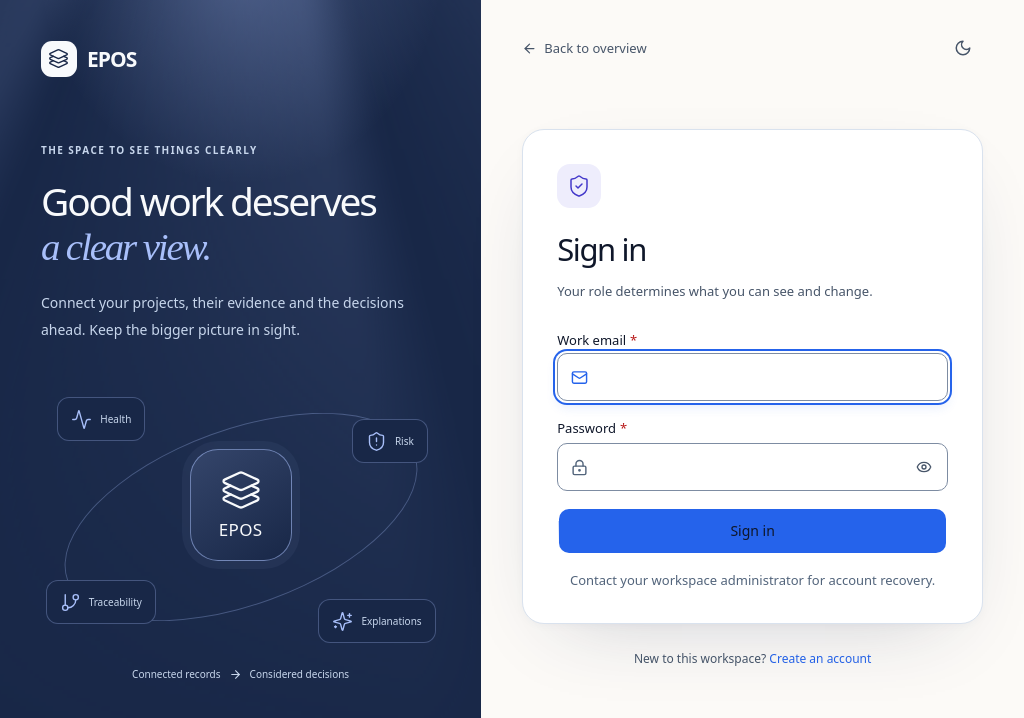
it: LoginPage › explains a 403 refusal instead of blaming the password
Type "someone@epos.example.com" into the field labelled "Work email" at (753, 377), box [557, 353, 948, 401]
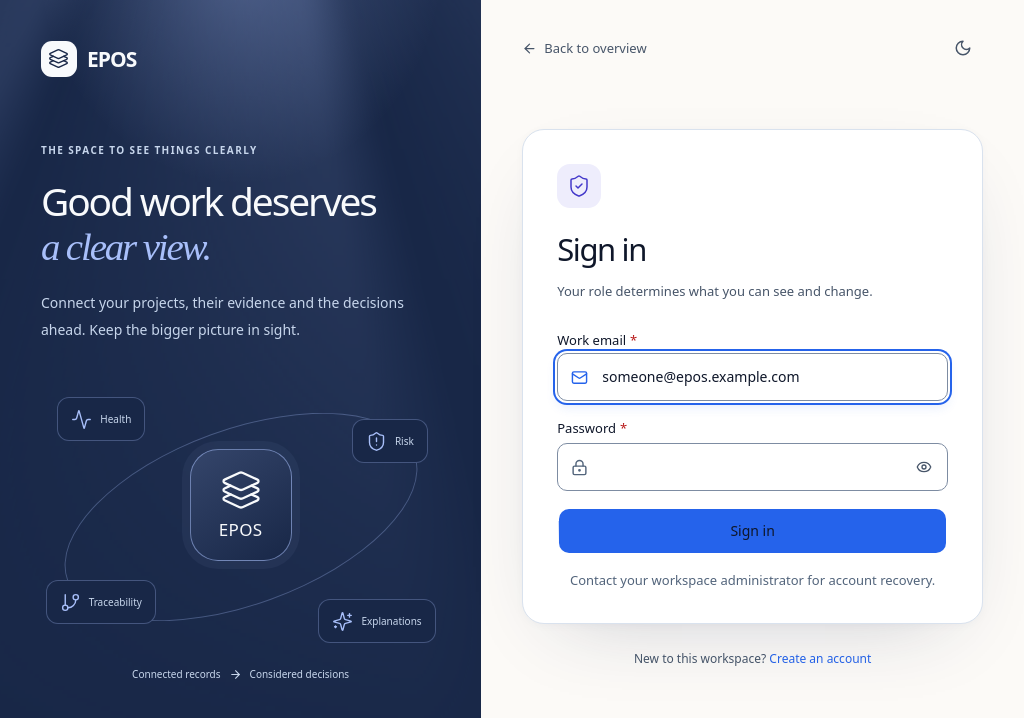
Type "a-password-123" into the password field labelled "Password" at (753, 467), box [557, 443, 948, 491]
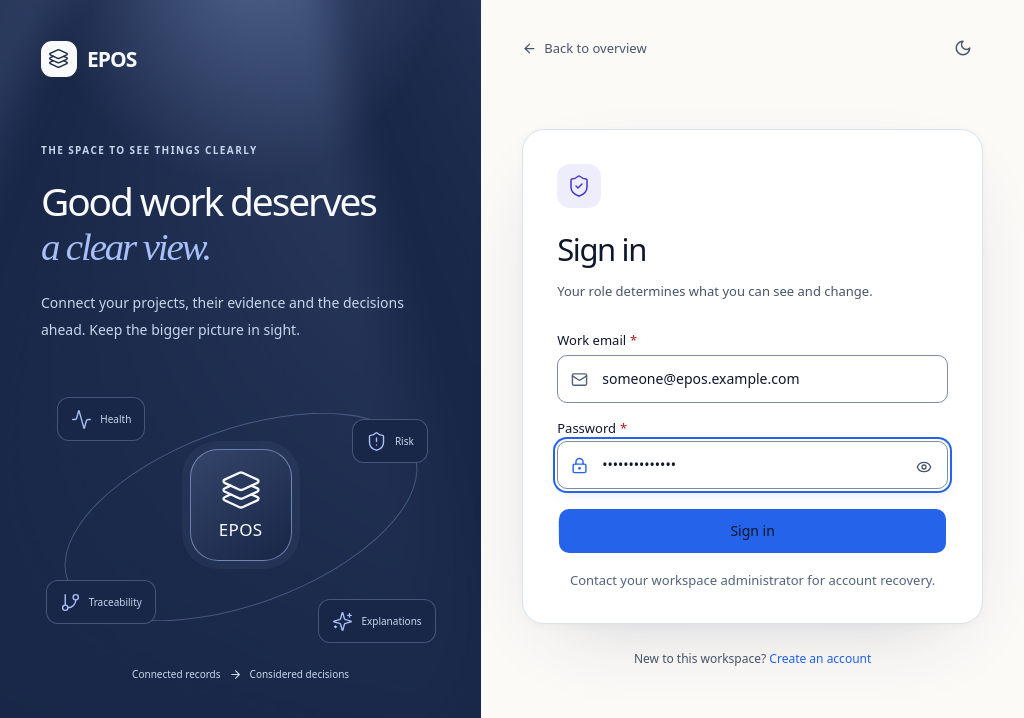
Click the button named "Sign in" at (753, 531), box [557, 507, 948, 555]
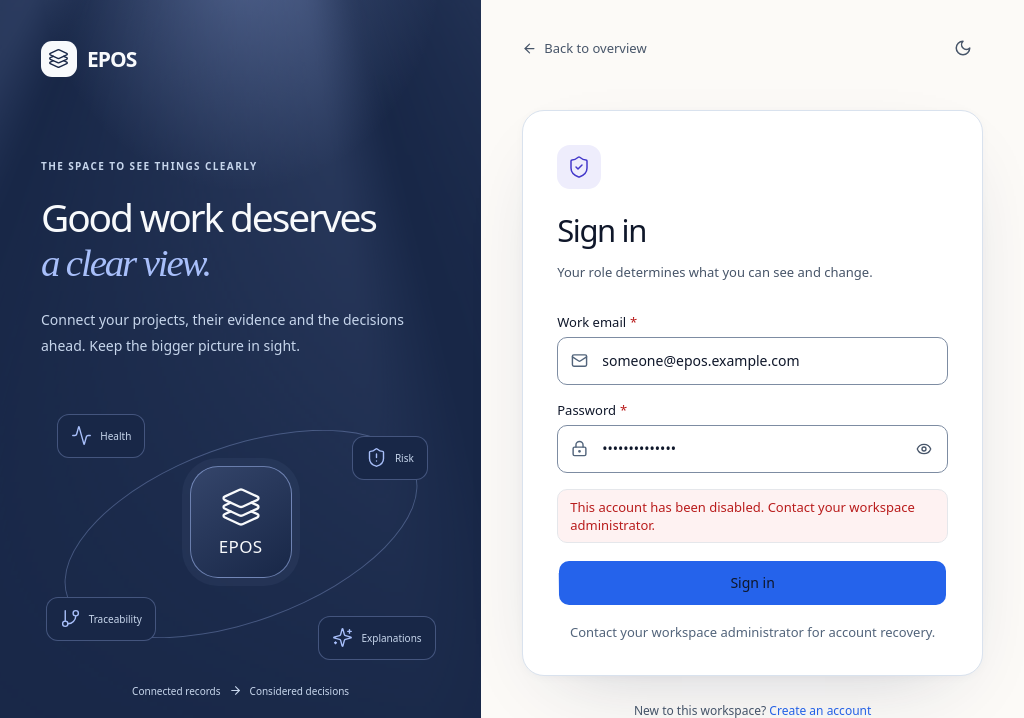
expect the message does not show "Email or password is incorrect.": met, box [557, 489, 948, 543]
expect the message shows "This account has been disabled.": met, box [570, 498, 915, 534]
